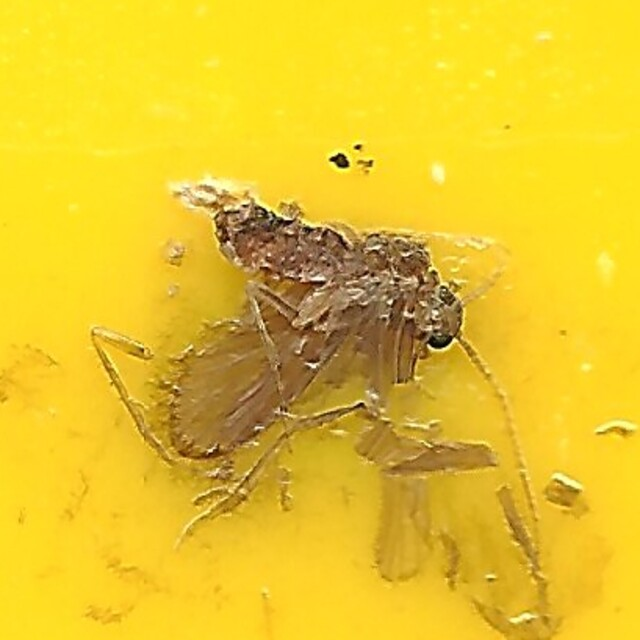Trichoptera: (156, 172, 484, 468)
